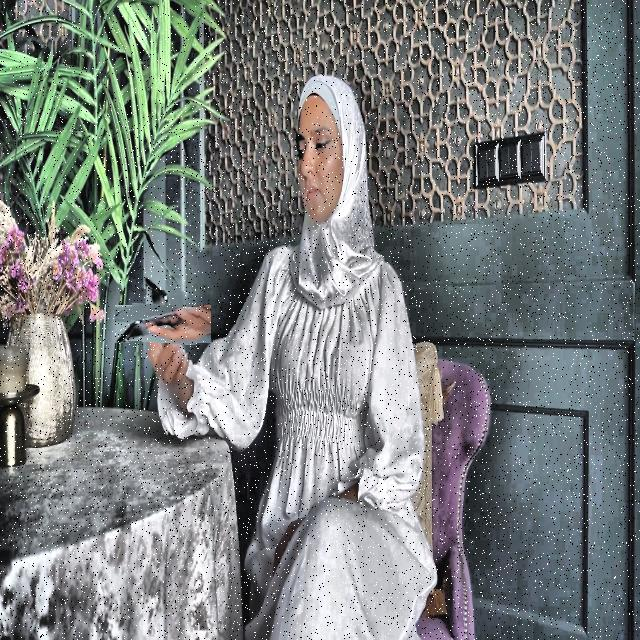Phone: (129, 289, 198, 359)
